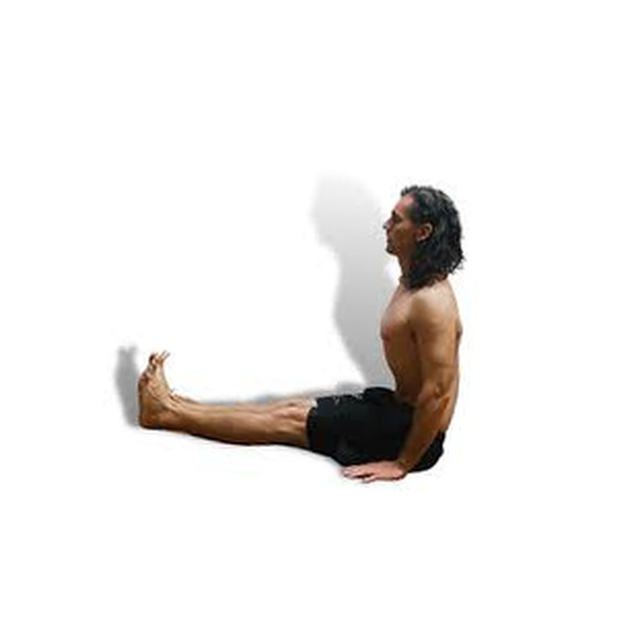Staff_Pose: (137, 183, 468, 482)
